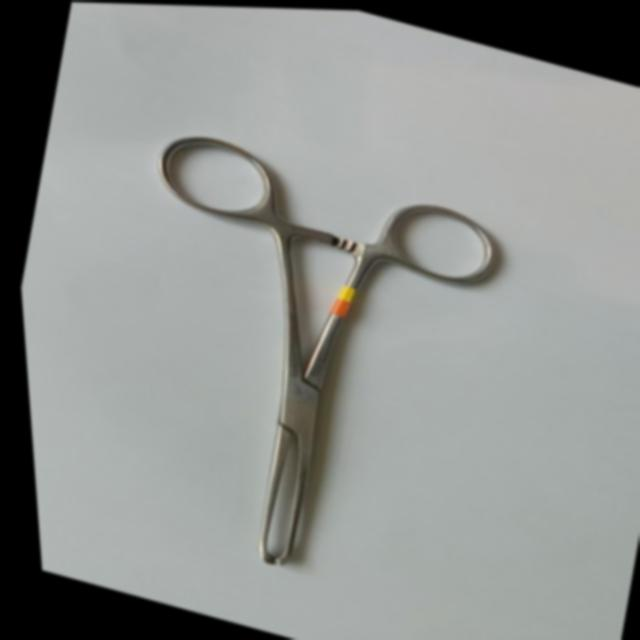AllisForcep: (58, 117, 526, 612)
